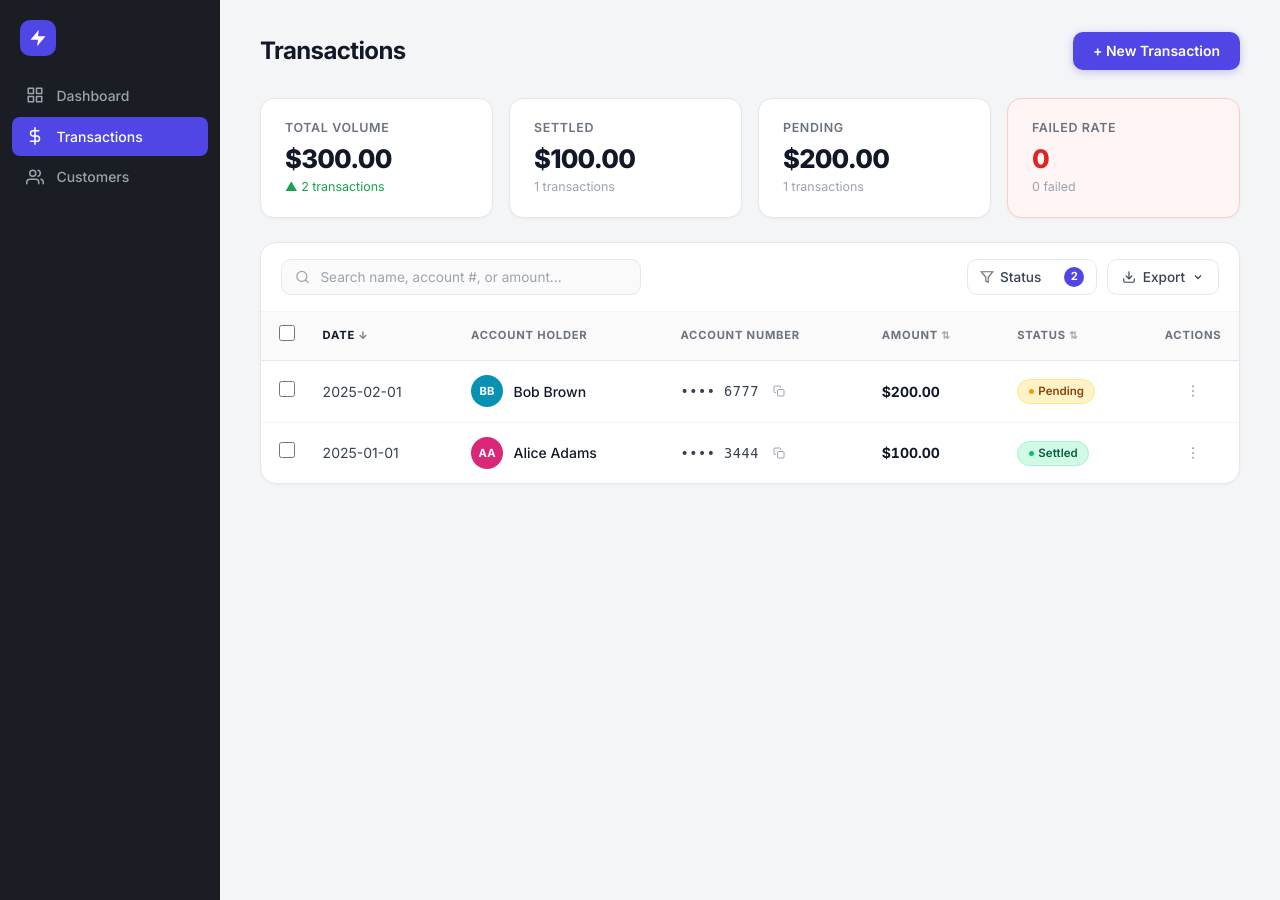
Scenario: App › filters visible rows by the search box
Expected: the text "Alice Adams" is shown, left=514, top=442, right=597, bottom=464
Type "Bob" into the field with placeholder "Search name, account #, or amount..." at (461, 277), box left=281, top=259, right=641, bottom=295
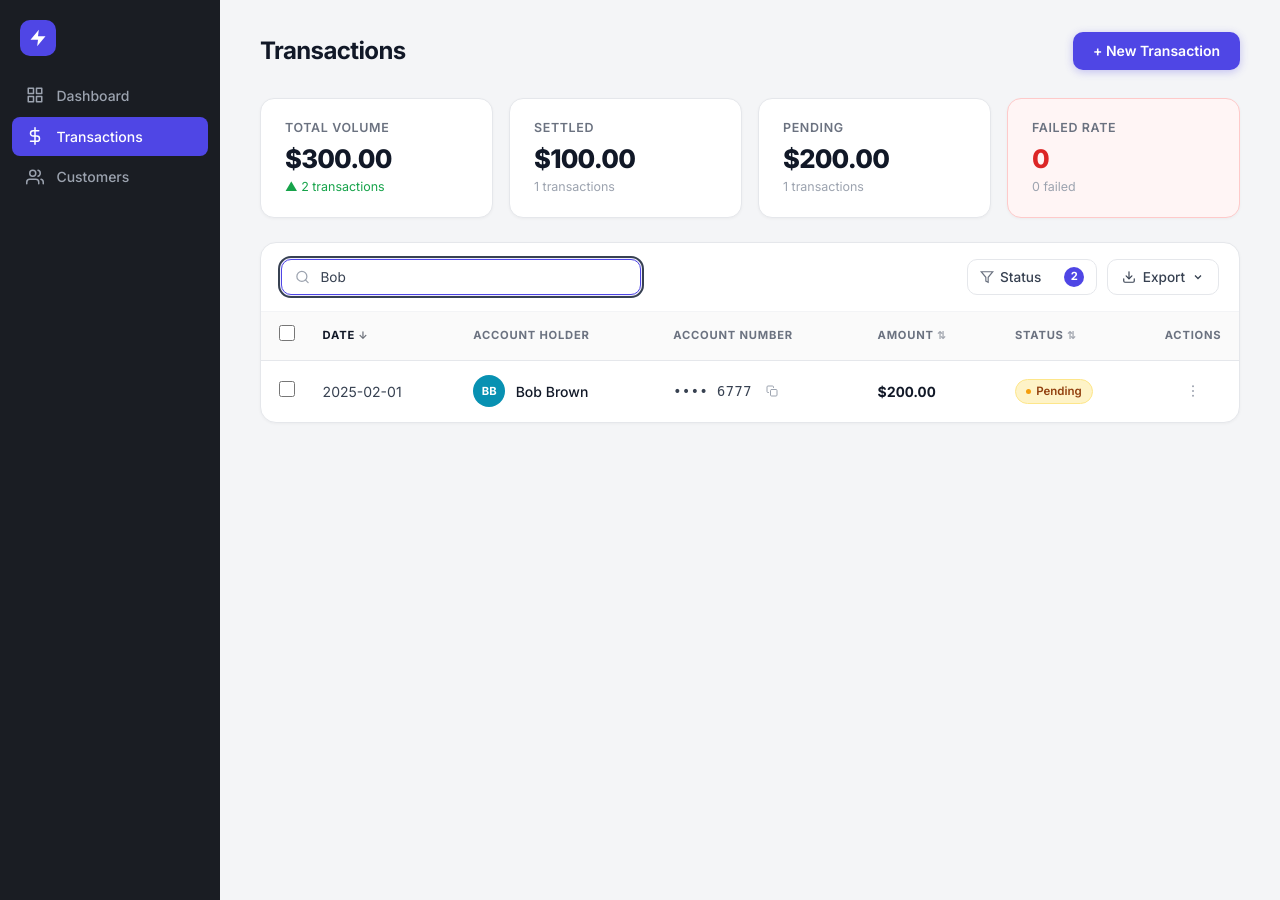
Expected: the text "Bob Brown" is shown, left=516, top=381, right=588, bottom=402
Now the text "Alice Adams" is gone
